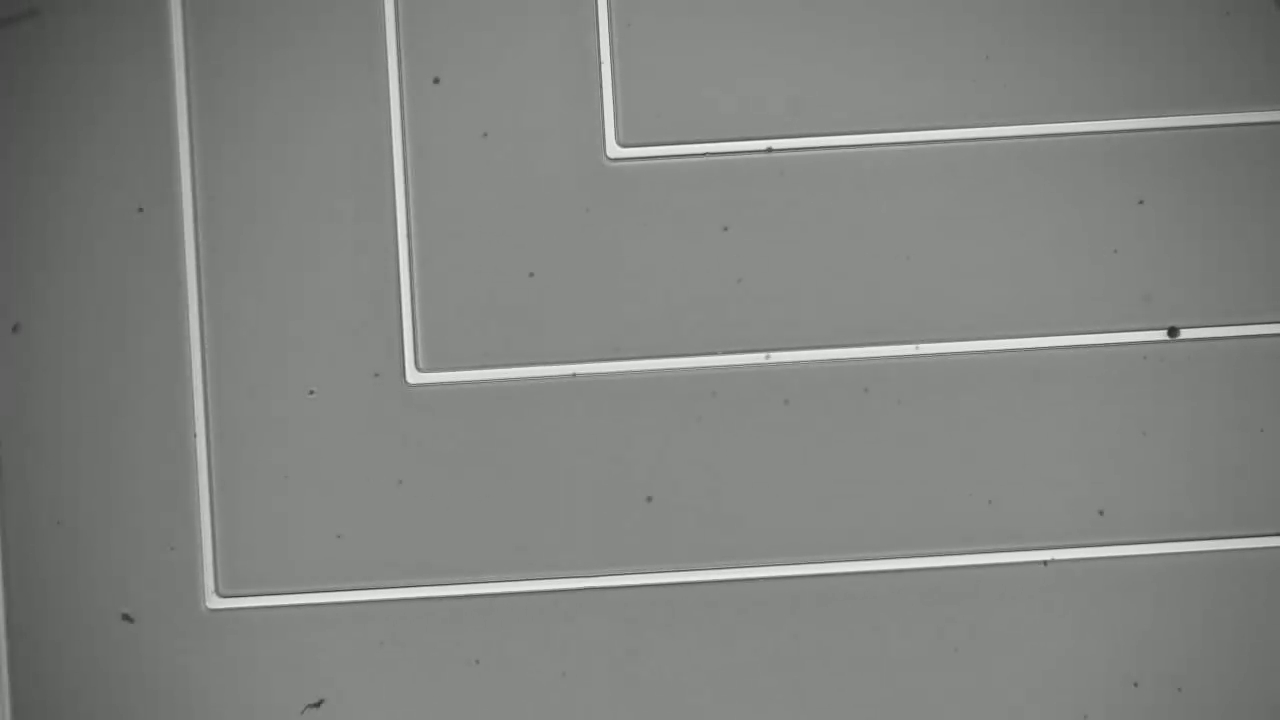stains_enbedded: (1159, 318, 1189, 350)
